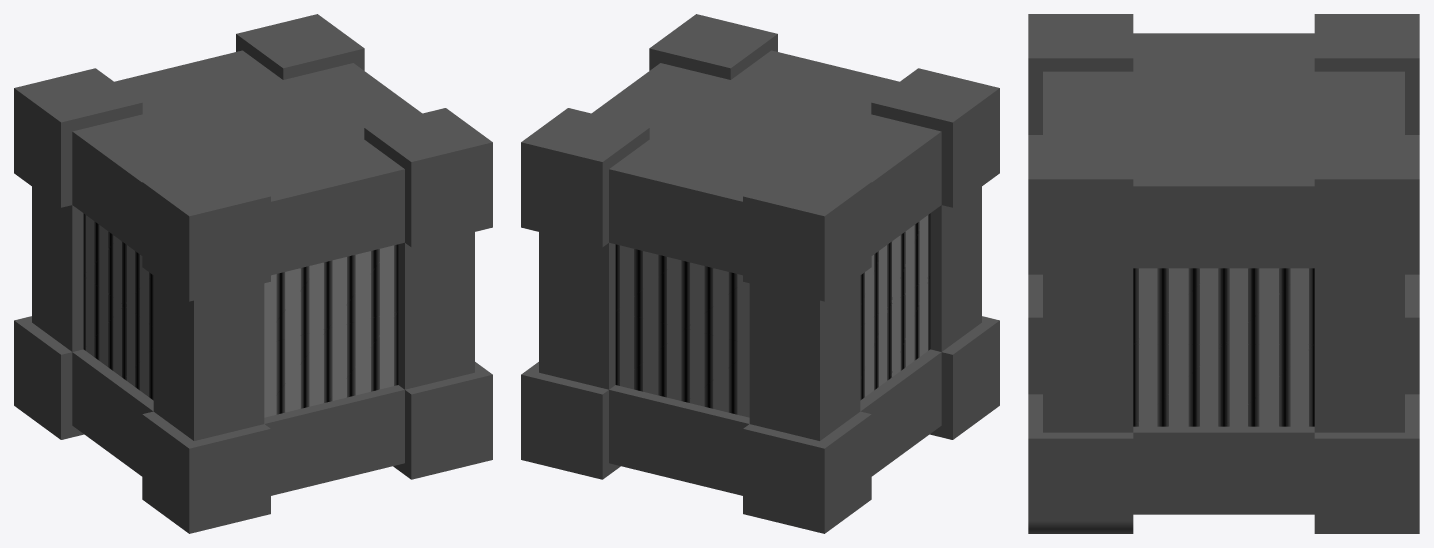
The model's file is crate1.FBX.
3 renders of one model, left to right at view 1: azimuth 30°, elevation 25°; view 2: azimuth 150°, elevation 25°; view 3: azimuth 270°, elevation 25°, orthographic. The views are drawn at different scales.
Visible parts, largest first — view 1: Box001; view 2: Box001; view 3: Box001.
Part boxes in pixels (x1=…): Box001: x1=14, y1=14, x2=492, y2=533; Box001: x1=521, y1=14, x2=999, y2=533; Box001: x1=1028, y1=14, x2=1419, y2=533.
Bounding box in the file's own units: 53.15 × 53.15 × 53.15.
